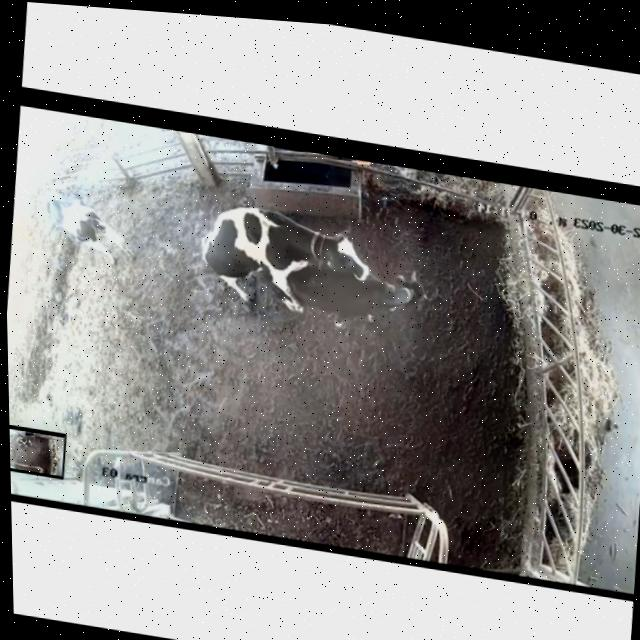ride: (184, 193, 379, 340)
